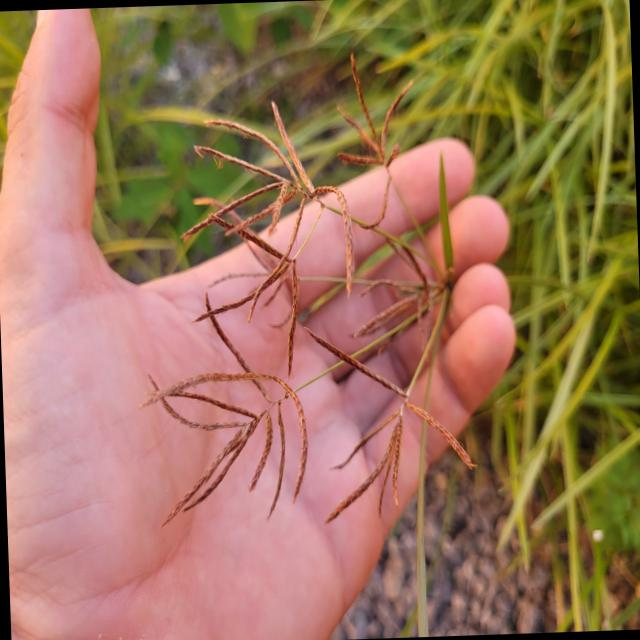cyperus: (120, 38, 482, 534)
